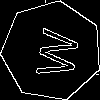W: (27, 26, 80, 80)
